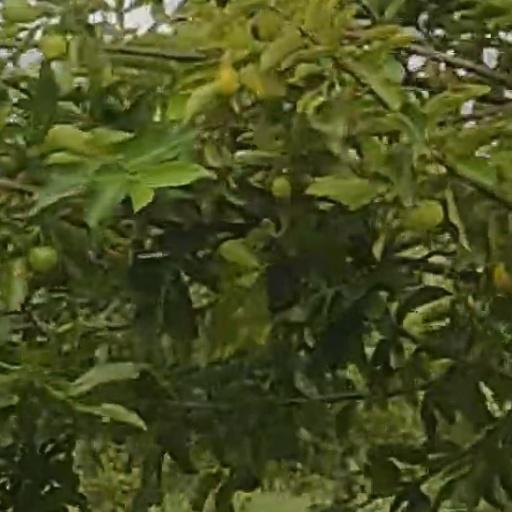acerola: (39, 34, 68, 60), (28, 248, 55, 275)
